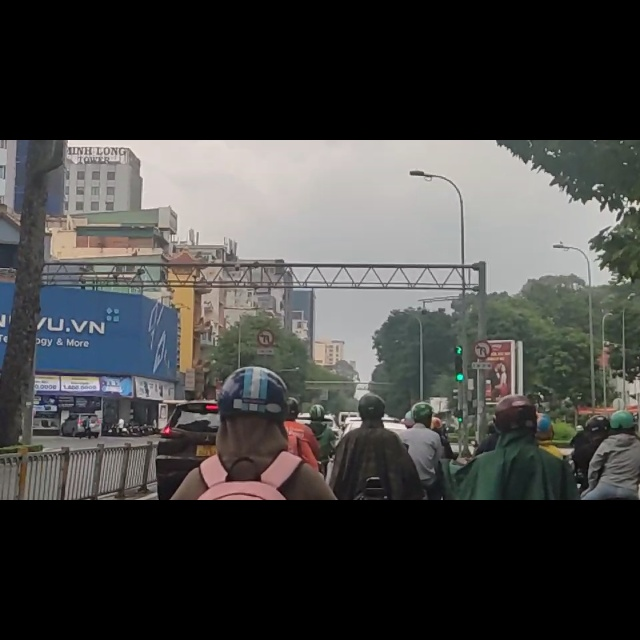bien_cam: (471, 356, 494, 392), (257, 333, 275, 365)
